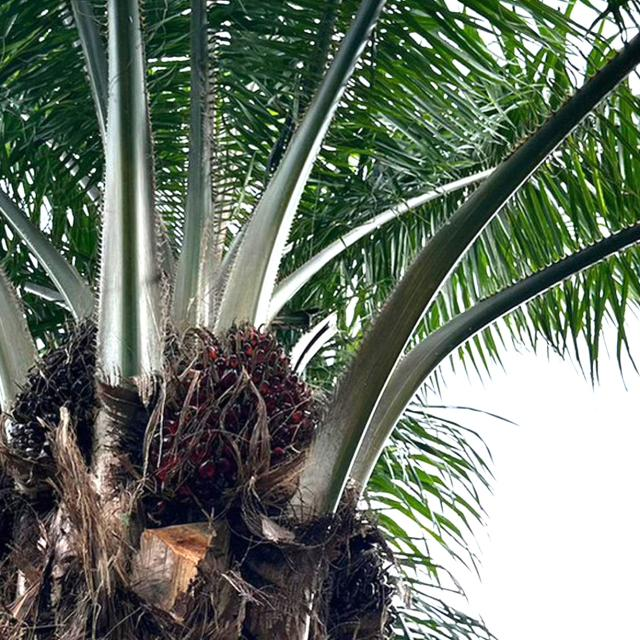ripe: (153, 309, 331, 499)
